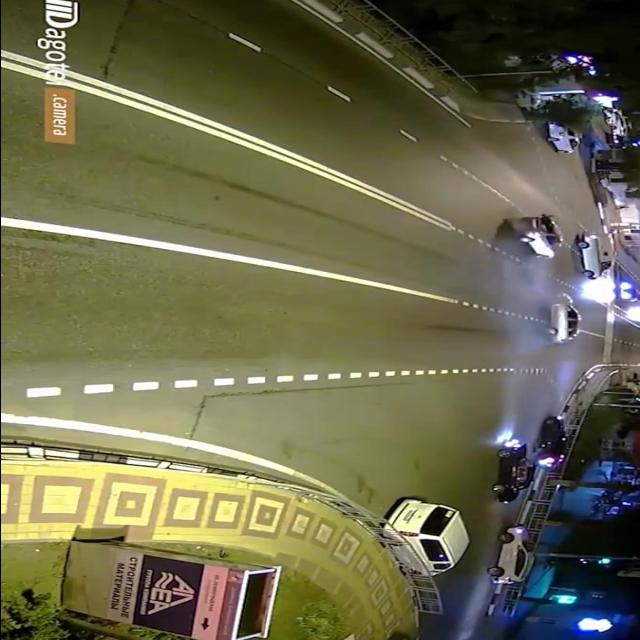accident: (500, 211, 568, 265)
non_accident: (484, 412, 580, 510)
